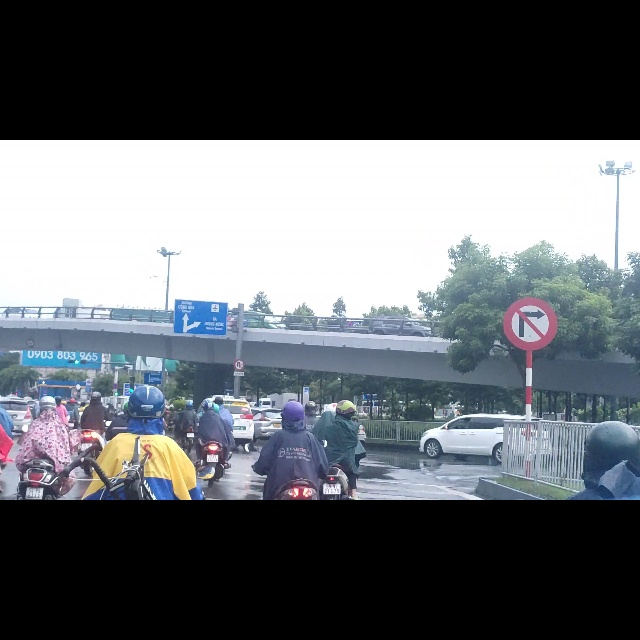bien_cam: (503, 277, 557, 377), (234, 389, 245, 410)
